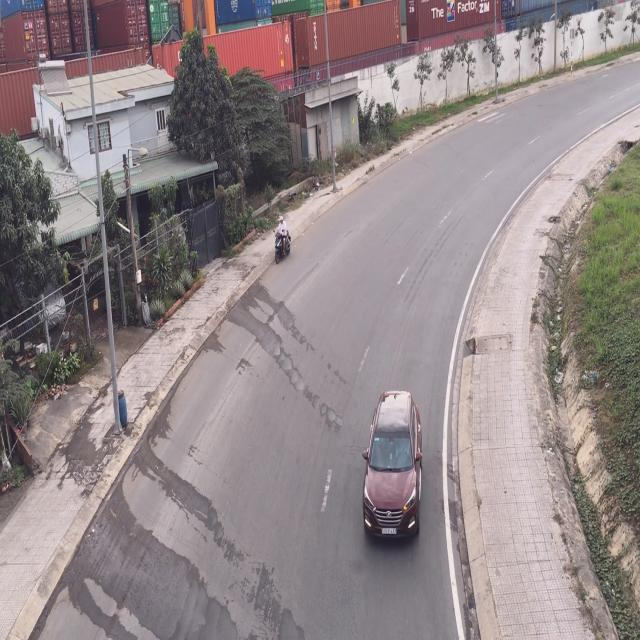car: (363, 391, 425, 544)
motorbike: (273, 215, 293, 268)
